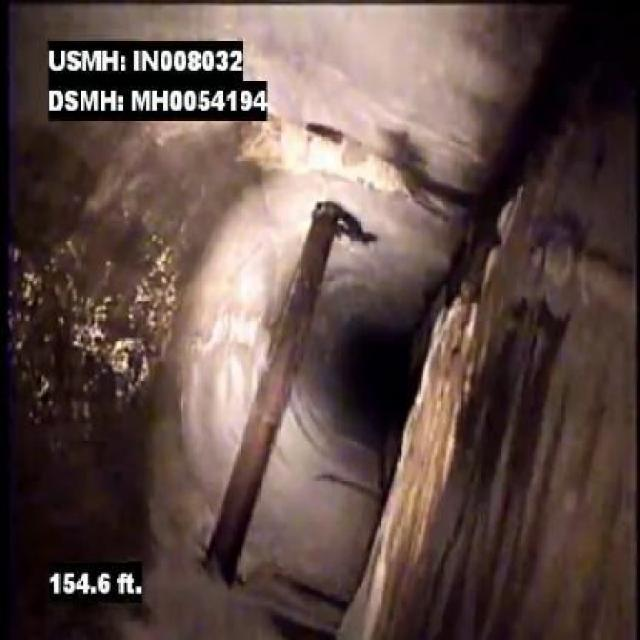Utility intrusion: (197, 199, 348, 583)
